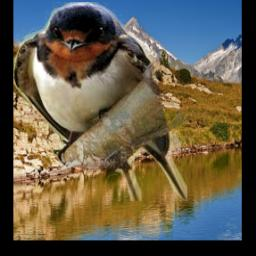Swallow: (13, 3, 187, 202)
